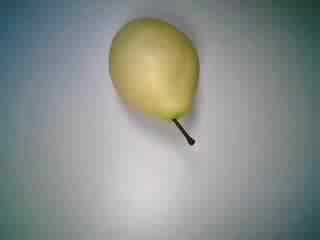pear: (100, 13, 216, 159)
